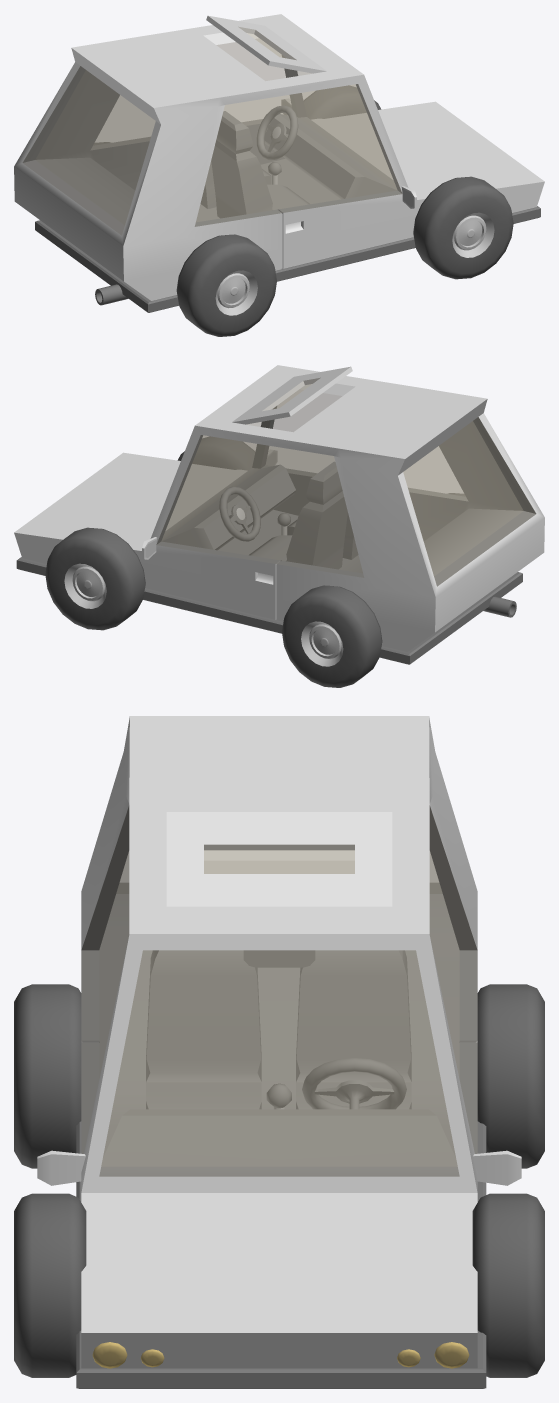
File: Car01.fbx
The picture shows the model from 3 angles, top to bottom: view 1: azimuth 30°, elevation 25°; view 2: azimuth 150°, elevation 25°; view 3: azimuth 270°, elevation 25°; orthographic projection. The views are drawn at different scales.
Parts seen in each view (by area): view 1: polySurface65; view 2: polySurface65; view 3: polySurface65.
Part boxes in pixels (x1,y1,x2,y2): polySurface65: [14, 14, 544, 336]; polySurface65: [14, 365, 544, 687]; polySurface65: [14, 716, 544, 1388].
Size of the model in its own units: 483 by 251 by 290.
